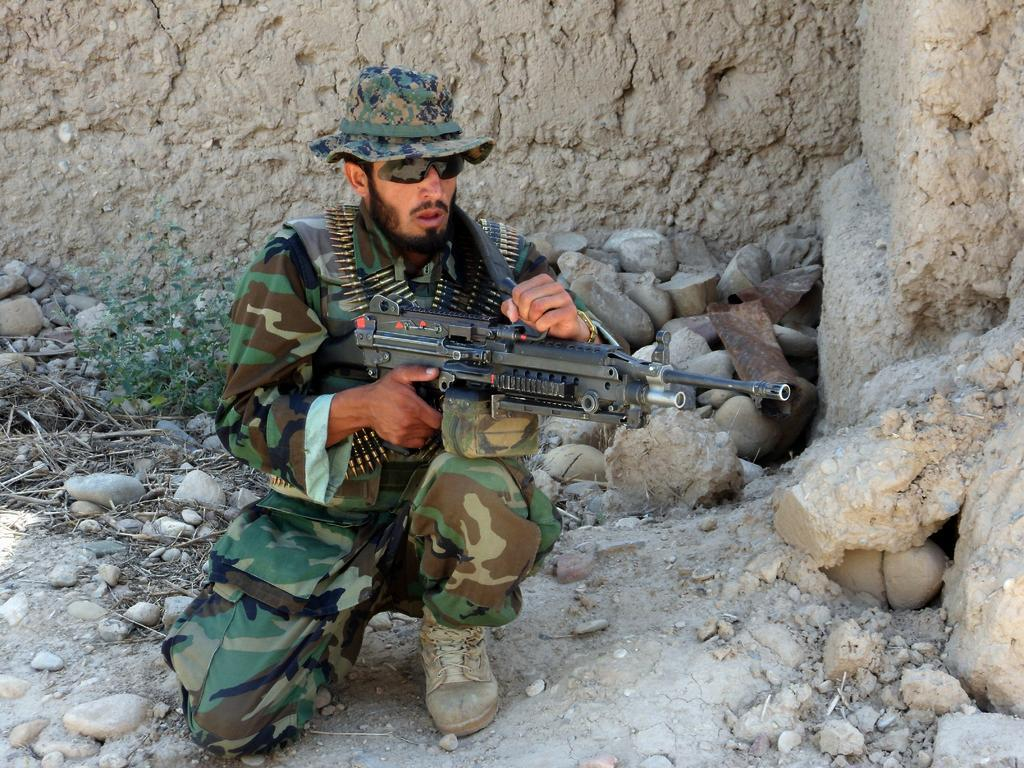gun: (348, 300, 792, 454)
